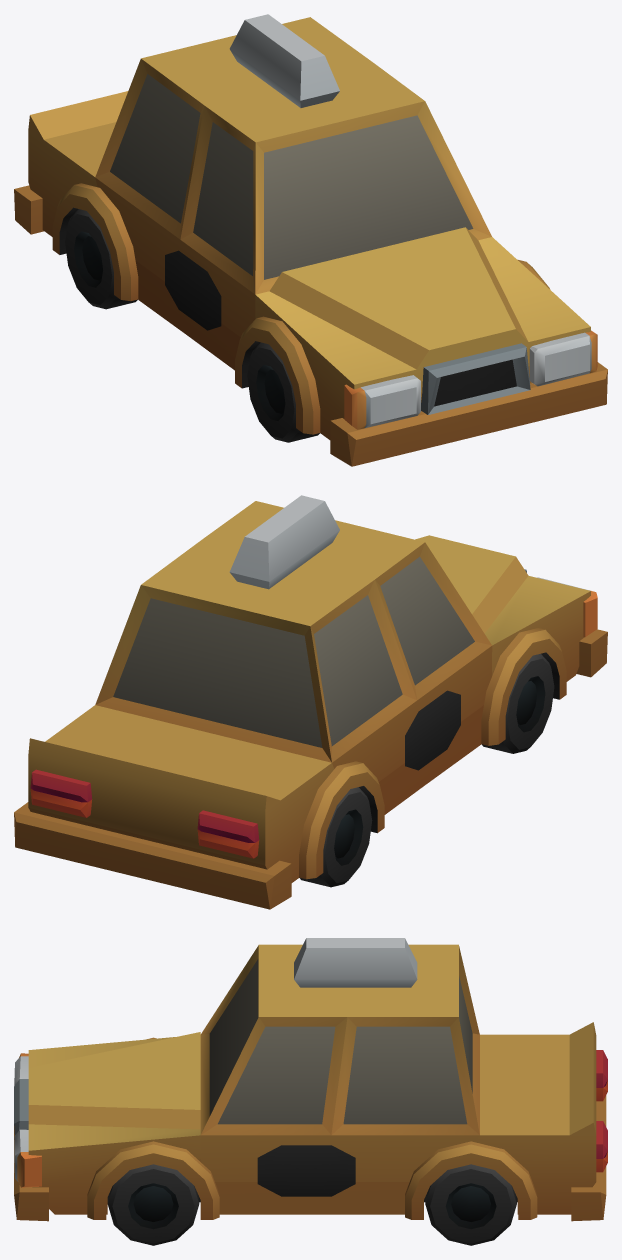
The model's file is city-car-taxi.glb.
The picture shows the model from 3 angles, top to bottom: view 1: azimuth 30°, elevation 25°; view 2: azimuth 150°, elevation 25°; view 3: azimuth 270°, elevation 25°; orthographic projection. The views are drawn at different scales.
Parts seen in each view (by area): view 1: car_taxi, car_taxi_wheel_rear_right, car_taxi_wheel_front_right; view 2: car_taxi, car_taxi_wheel_front_right, car_taxi_wheel_rear_right; view 3: car_taxi, car_taxi_wheel_front_left, car_taxi_wheel_rear_left.
Part boxes in pixels (box(x1,y1,x2,y2)): car_taxi: box(14, 14, 607, 466); car_taxi_wheel_rear_right: box(65, 209, 137, 309); car_taxi_wheel_front_right: box(247, 342, 319, 442); car_taxi: box(14, 495, 607, 909); car_taxi_wheel_front_right: box(482, 653, 554, 753); car_taxi_wheel_rear_right: box(299, 787, 372, 887); car_taxi: box(14, 938, 607, 1221); car_taxi_wheel_front_left: box(107, 1164, 199, 1245); car_taxi_wheel_rear_left: box(425, 1164, 516, 1245).
Size of the model in its own units: 0.419 by 0.4345 by 0.9381.
